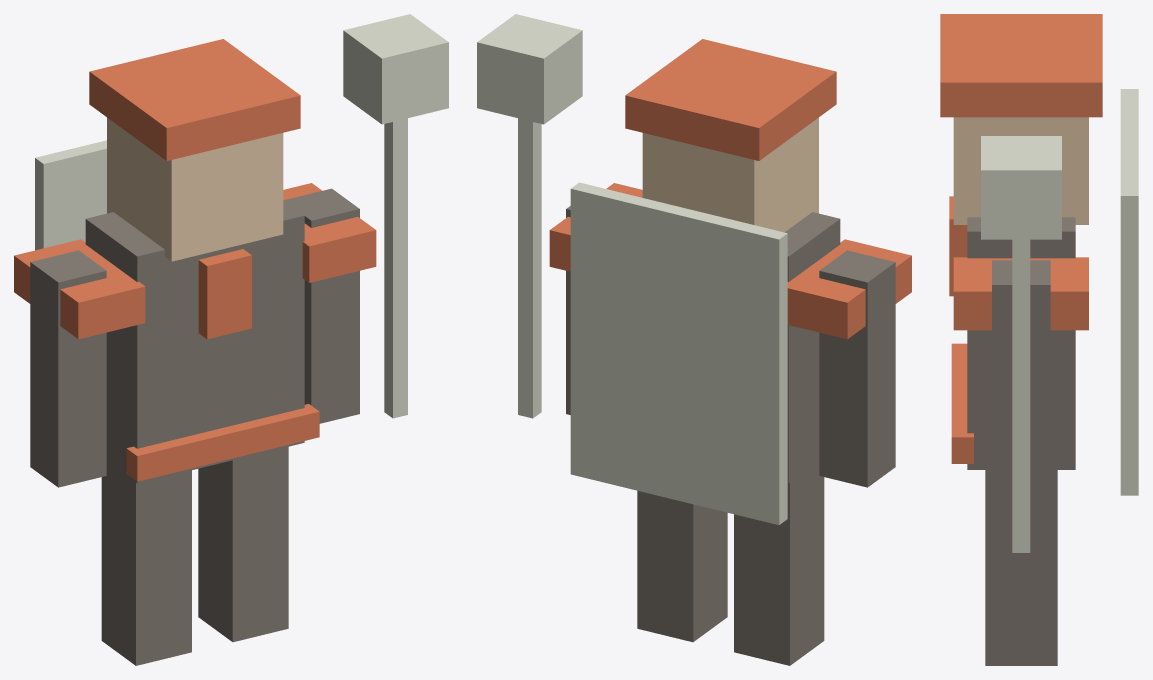
File: 15_mirek_ironwake_responder_at_waystation.glb
3 renders of one model, left to right at view 1: azimuth 30°, elevation 25°; view 2: azimuth 150°, elevation 25°; view 3: azimuth 270°, elevation 25°, orthographic. The views are drawn at different scales.
Visible parts, largest first — view 1: Mirek Ironwake, Responder at Waystation; view 2: Mirek Ironwake, Responder at Waystation; view 3: Mirek Ironwake, Responder at Waystation.
Part boxes in pixels (x1,y1,x2,y2): Mirek Ironwake, Responder at Waystation: [14, 14, 448, 665]; Mirek Ironwake, Responder at Waystation: [477, 14, 911, 665]; Mirek Ironwake, Responder at Waystation: [940, 14, 1138, 665].
Size of the model in its own units: 1.04 by 1.42 by 0.4428.
